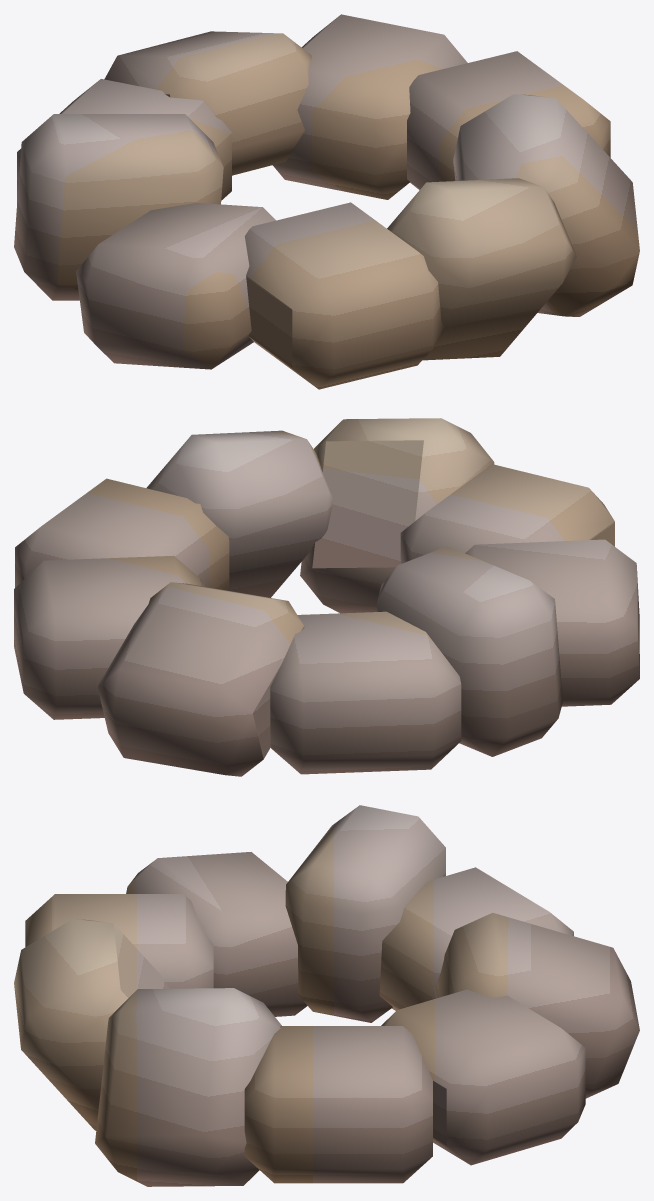
Rendered from simple_low_poly_stone_ring.glb.
The picture shows the model from 3 angles, top to bottom: view 1: azimuth 30°, elevation 25°; view 2: azimuth 150°, elevation 25°; view 3: azimuth 270°, elevation 25°; orthographic projection. The views are drawn at different scales.
Parts seen in each view (by area): view 1: stone_ring_Material #26_0; view 2: stone_ring_Material #26_0; view 3: stone_ring_Material #26_0.
Part boxes in pixels (x1=…): stone_ring_Material #26_0: x1=14, y1=14, x2=639, y2=389; stone_ring_Material #26_0: x1=14, y1=418, x2=639, y2=776; stone_ring_Material #26_0: x1=14, y1=805, x2=639, y2=1186.
Size of the model in its own units: 1.48 by 0.5113 by 1.52.
1 material, 1 textured.
